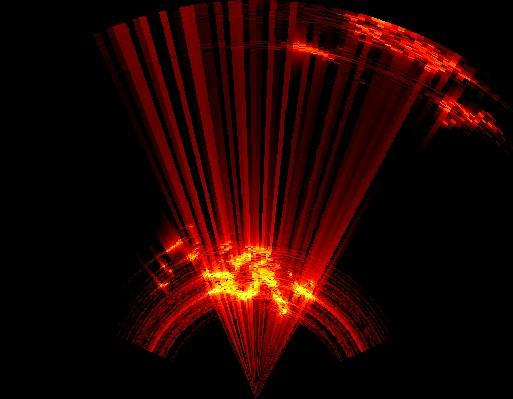shipwreck: (345, 15, 470, 78), (211, 271, 290, 313), (211, 248, 276, 271), (292, 279, 321, 301)
